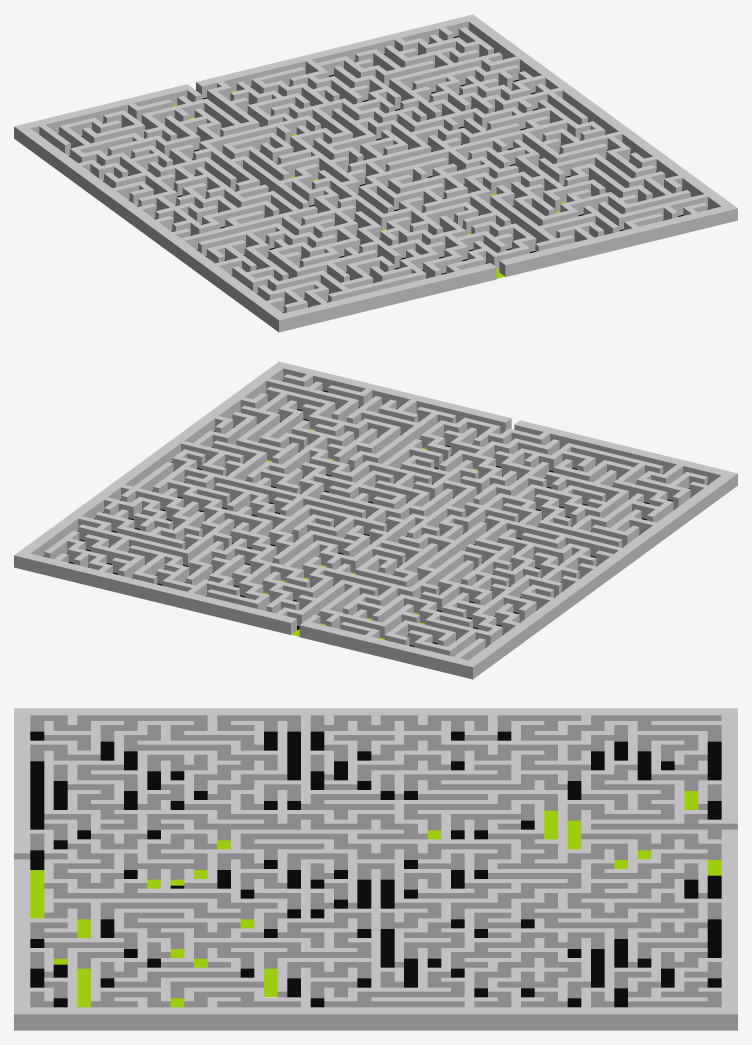
Rendered from MAZE2.fbx.
3 views of the same model, one above another, from view 1: azimuth 30°, elevation 25°; view 2: azimuth 150°, elevation 25°; view 3: azimuth 270°, elevation 25° (orthographic). The views are drawn at different scales.
Parts seen in each view (by area): view 1: Plane; view 2: Plane; view 3: Plane.
Part boxes in pixels (bbox=[...]): Plane: bbox=[14, 14, 737, 332]; Plane: bbox=[14, 361, 737, 679]; Plane: bbox=[14, 708, 737, 1030].
Bounding box in the file's own units: 1999 × 50.72 × 1999.
